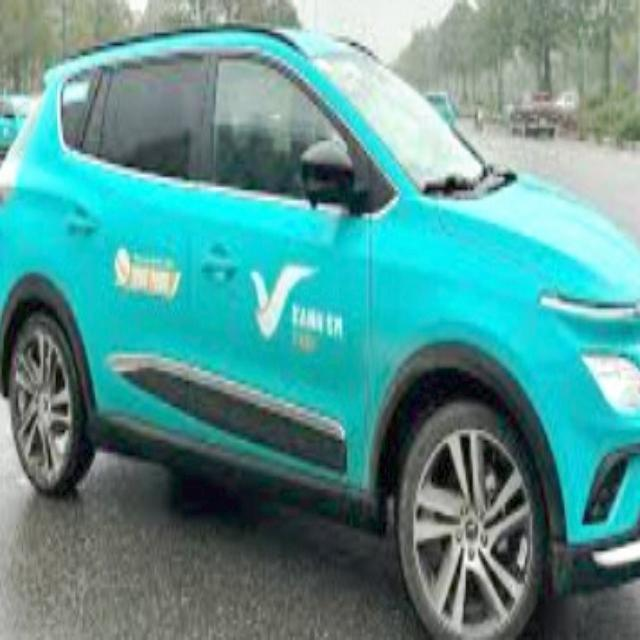Car: (0, 22, 639, 639), (0, 92, 35, 164)
